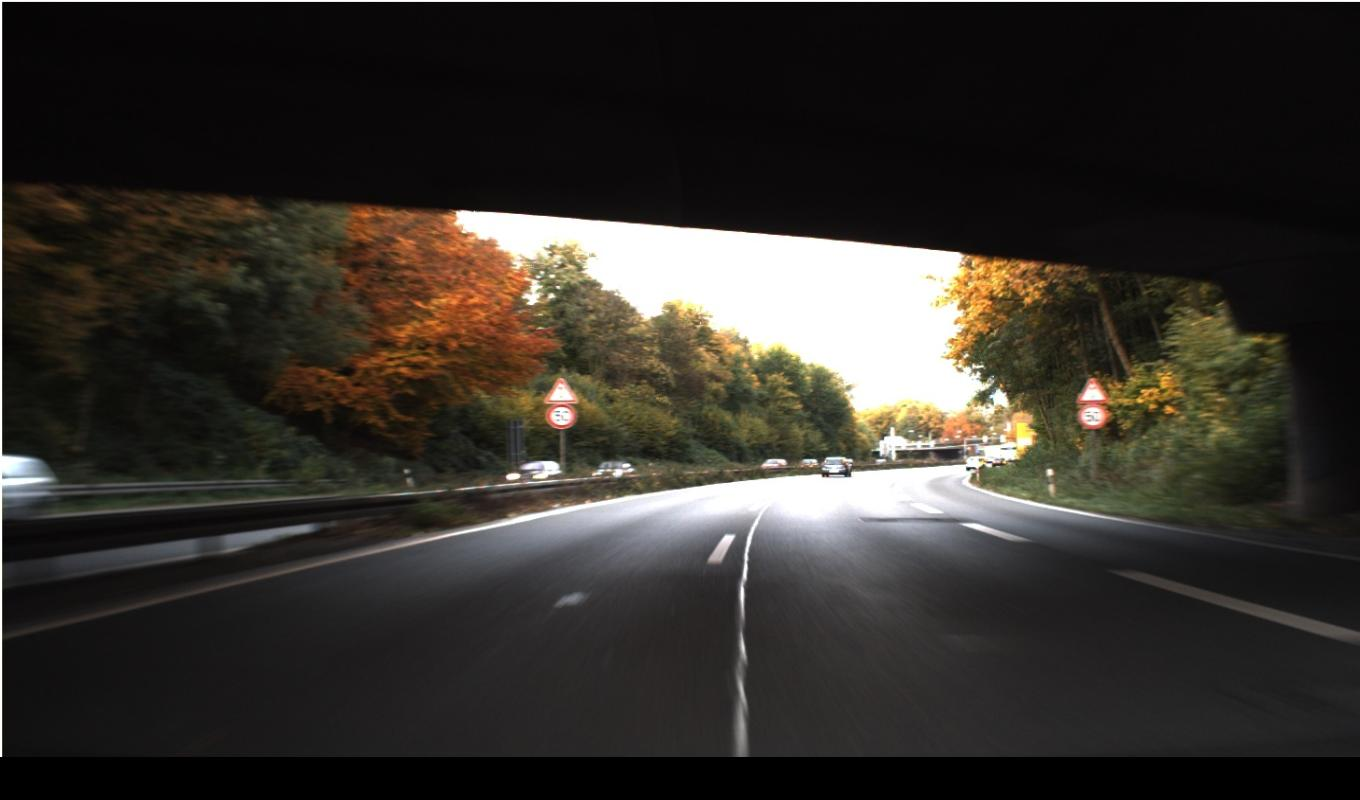traffic signal: (543, 376, 1110, 429)
